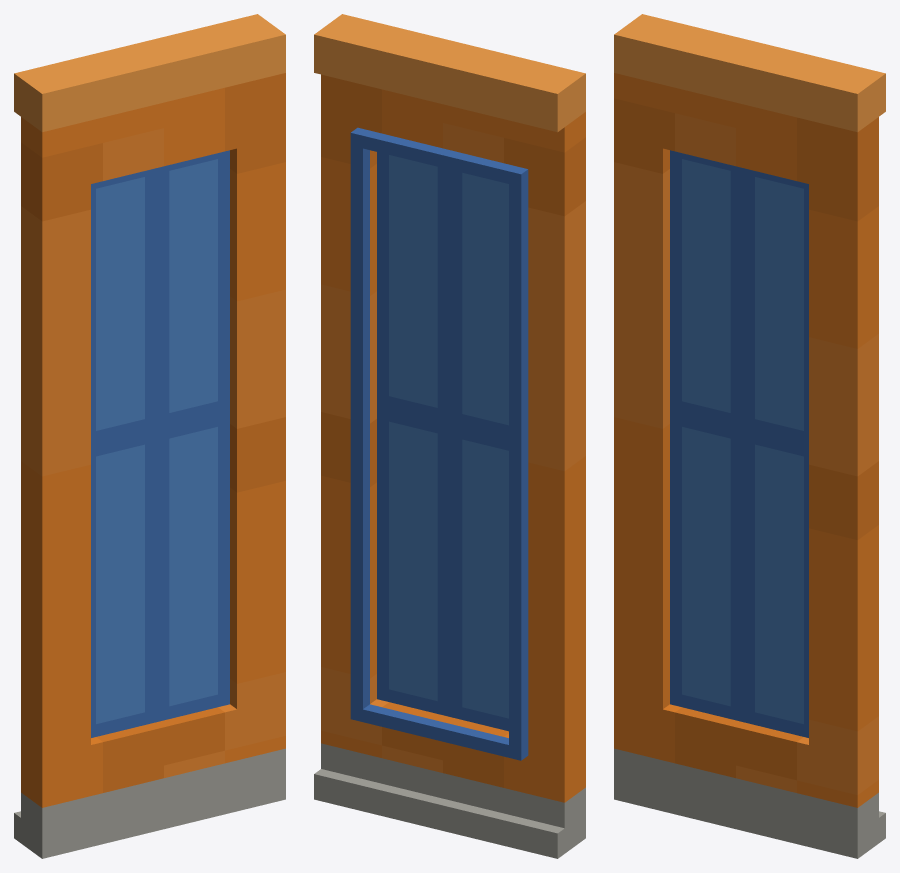
File: lib_wall.glb
3 views of the same model, side by side, from view 1: azimuth 30°, elevation 25°; view 2: azimuth 150°, elevation 25°; view 3: azimuth 330°, elevation 25° (orthographic).
Parts seen in each view (by area): view 1: wall; view 2: wall; view 3: wall.
Boxes of the visible parts, left/top/right/bottom form: wall: left=14, top=14, right=285, bottom=858; wall: left=314, top=14, right=585, bottom=858; wall: left=614, top=14, right=885, bottom=858.
Size of the model in its own units: 2 by 6 by 0.4.
